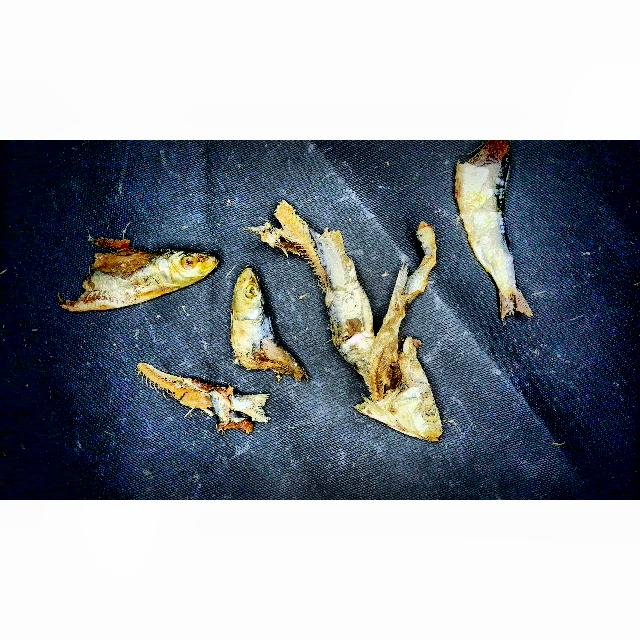Rejected_Body: (246, 198, 374, 343), (451, 145, 521, 284), (59, 231, 160, 318), (132, 356, 230, 425), (358, 307, 423, 393)
Rejected_Head: (227, 265, 308, 381), (359, 362, 444, 442), (137, 240, 220, 303)
Rejected_Tail: (380, 253, 435, 311), (222, 387, 278, 430), (485, 276, 539, 319)
